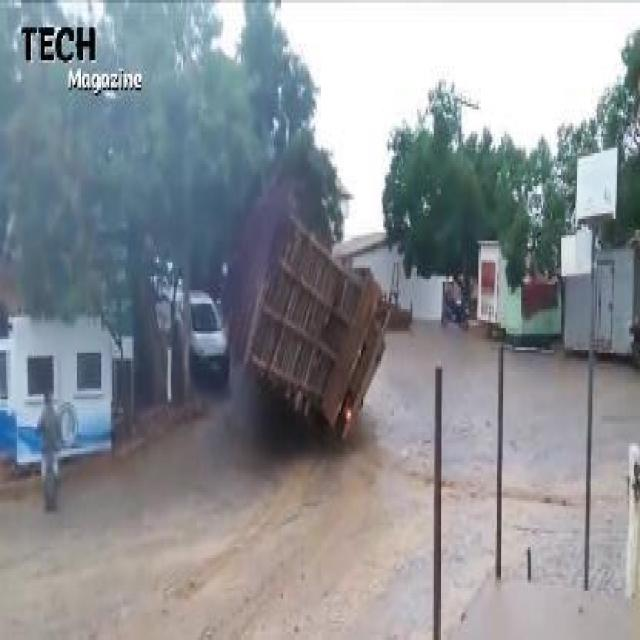accident: (215, 156, 398, 438)
